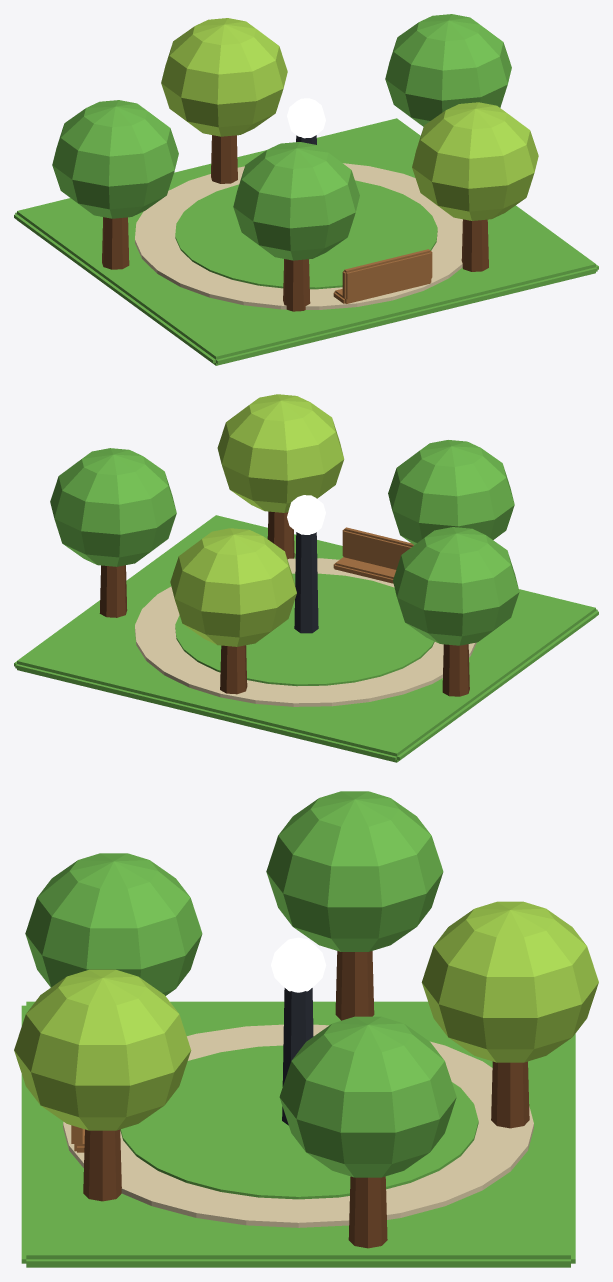
Rendered from leisure.glb.
The picture shows the model from 3 angles, top to bottom: view 1: azimuth 30°, elevation 25°; view 2: azimuth 150°, elevation 25°; view 3: azimuth 270°, elevation 25°; orthographic projection. The views are drawn at different scales.
Parts seen in each view (by area): view 1: leisure; view 2: leisure; view 3: leisure.
Part boxes in pixels (x1,y1,x2,y2): leisure: (14,14,598,365); leisure: (14,394,598,762); leisure: (14,791,598,1267).
Size of the model in its own units: 2.53 by 0.908 by 2.11.
